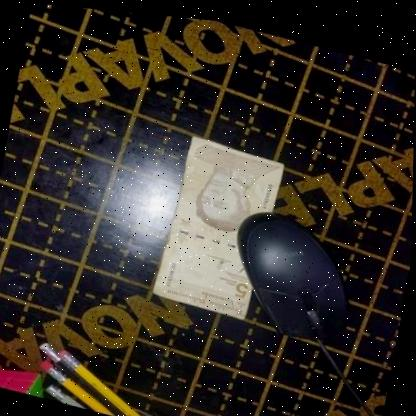five-front-vef: (152, 127, 284, 317)
